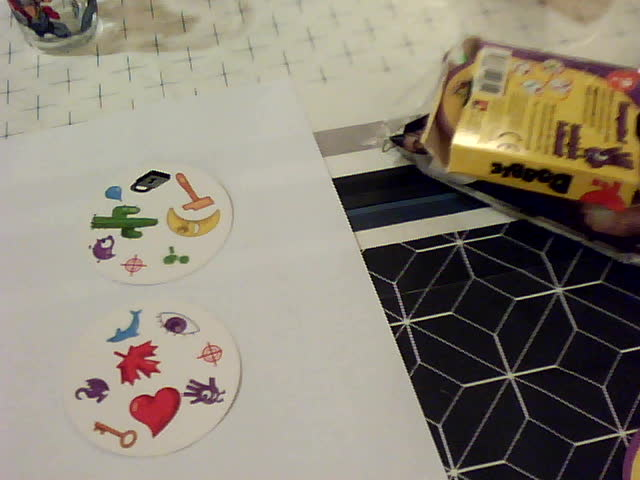cactus: (83, 203, 159, 240)
cadenas: (129, 169, 173, 195)
cible: (193, 340, 228, 369), (118, 251, 149, 279)
cle: (88, 418, 139, 450)
coeur: (127, 386, 182, 440)
dauphin: (101, 308, 148, 346)
dooble: (183, 375, 229, 409)
dragon: (71, 377, 115, 406)
feuille: (114, 340, 163, 387)
goutte: (97, 183, 126, 203)
lune: (162, 207, 225, 238)
marteau: (172, 172, 216, 214)
oeuil: (154, 307, 202, 339)
oiseau: (85, 234, 116, 262)
tache: (158, 244, 194, 269)
